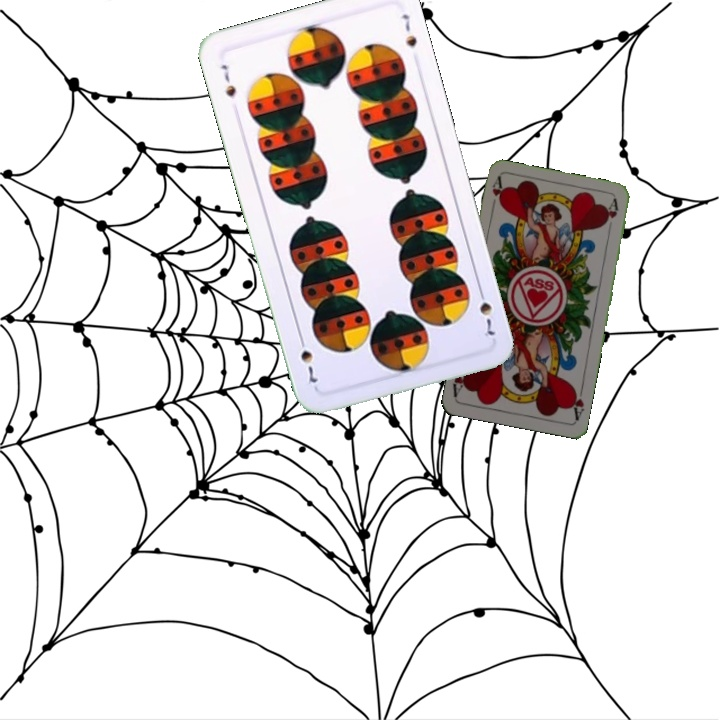HA: (566, 382, 586, 423), (487, 174, 506, 214)
S7: (474, 283, 498, 341), (216, 60, 239, 100)
